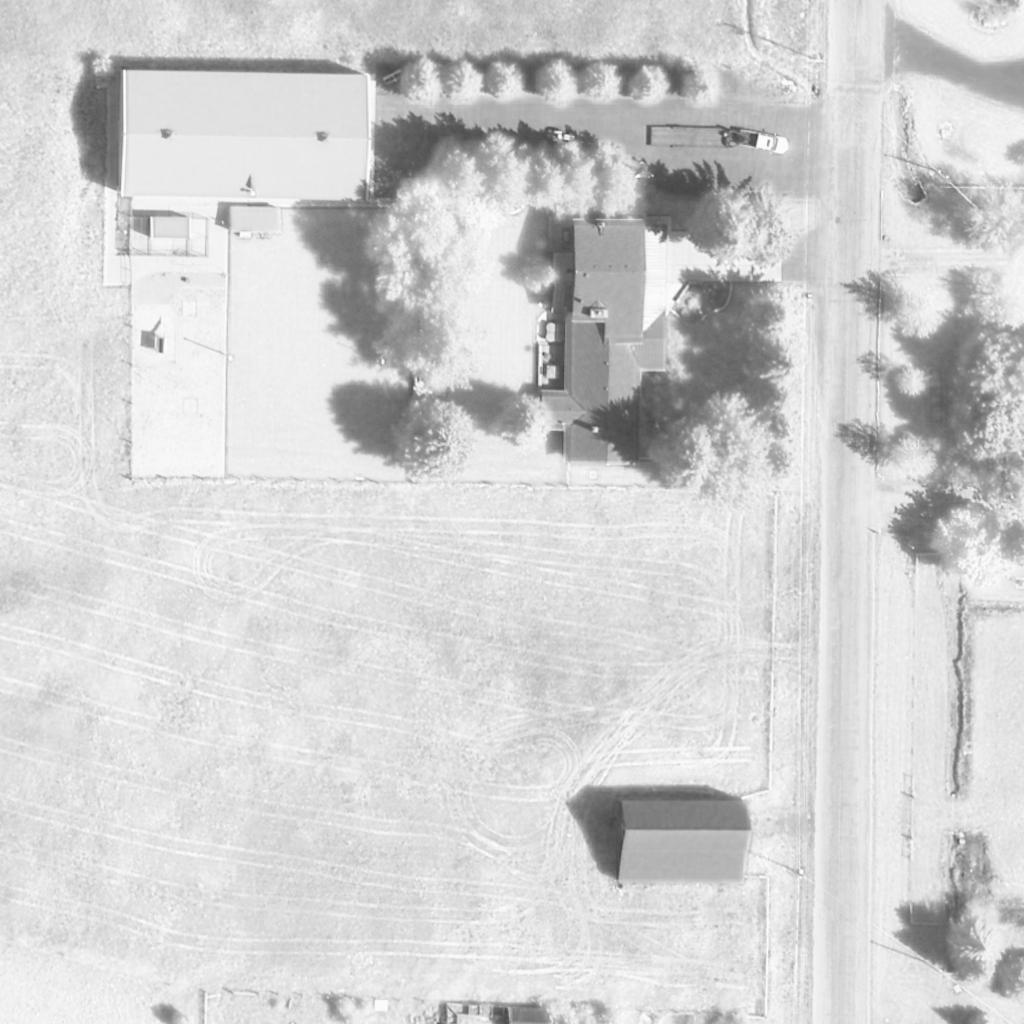vehicle: (737, 129, 791, 157)
